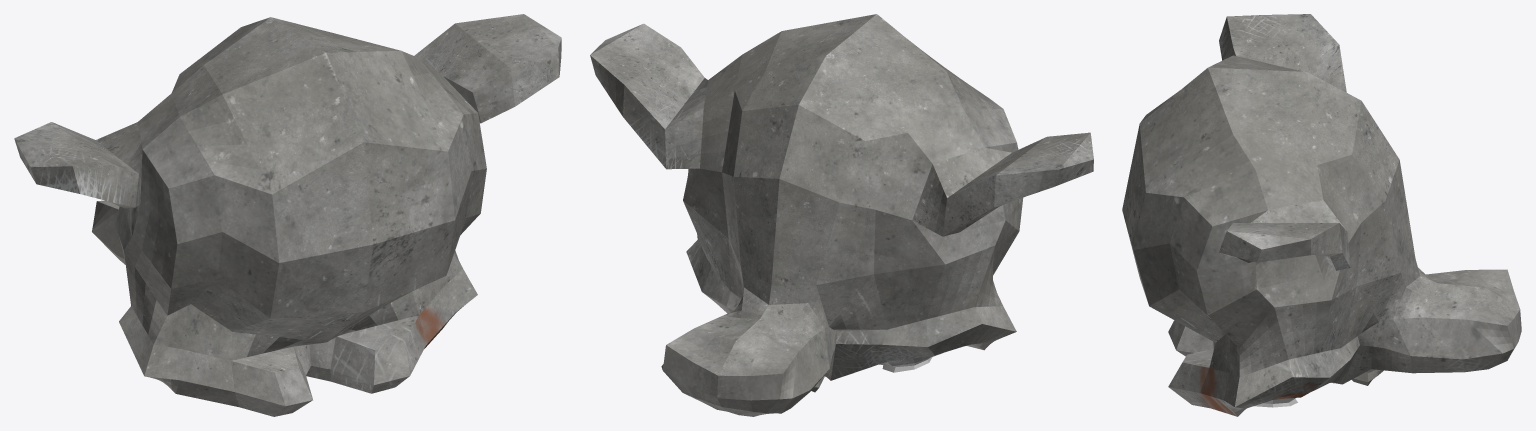
The model's file is suzanne.glb.
3 views of the same model, side by side, from view 1: azimuth 30°, elevation 25°; view 2: azimuth 150°, elevation 25°; view 3: azimuth 270°, elevation 25° (orthographic). The views are drawn at different scales.
Parts seen in each view (by area): view 1: Suzanne; view 2: Suzanne; view 3: Suzanne.
Part boxes in pixels (x1,y1,x2,y2): Suzanne: (14, 14, 561, 416); Suzanne: (590, 14, 1093, 416); Suzanne: (1122, 14, 1521, 416).
Size of the model in its own units: 273 by 170 by 197.
Materials: 1 (1 with a texture image).
